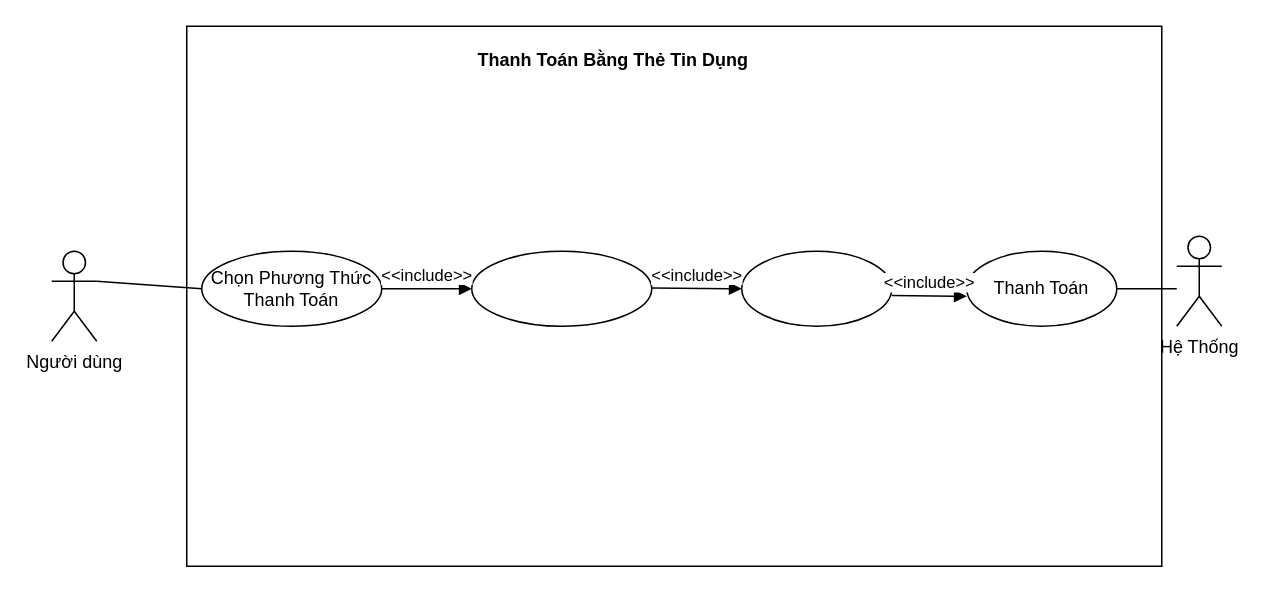
This 1263x593 diagram has some shape labels left out. The shapes that lost their labels are listed below. From the top down, each one's centre as x and y in pixels, then its label:
At pixel 561 288: "Nhập thông tin thẻ tín dụng".
At pixel 816 288: "Xác thực Thông Tin Thẻ".
